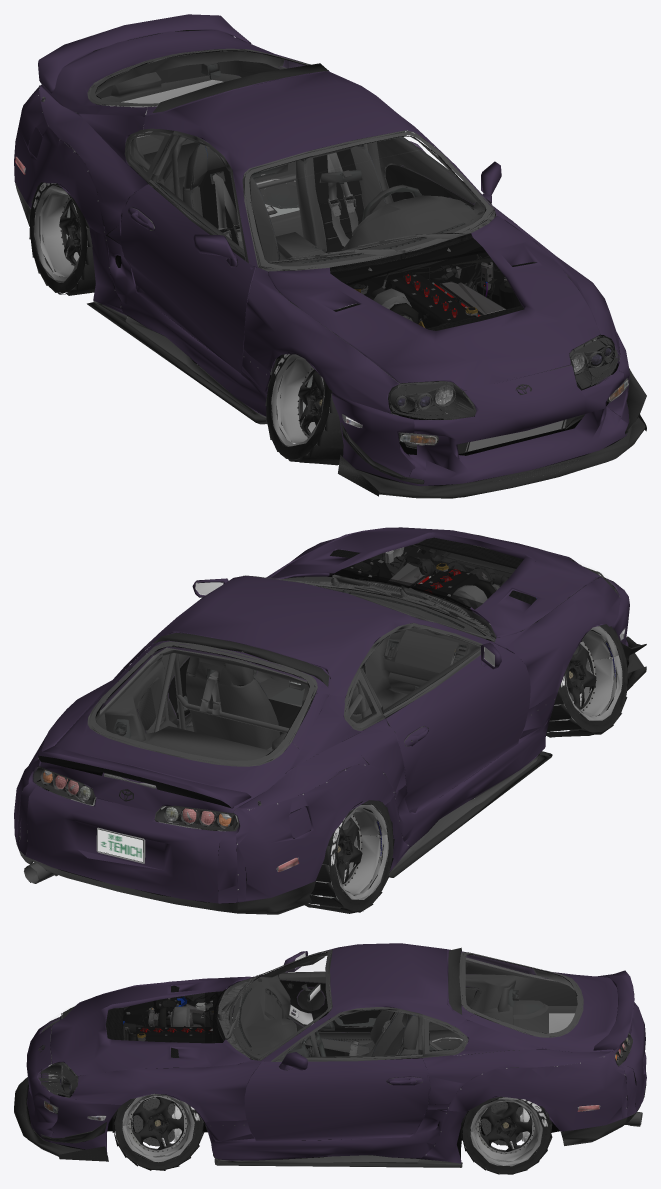
The model's file is toyota-supra-mk4-a80-61d402.glb.
3 views of the same model, one above another, from view 1: azimuth 30°, elevation 25°; view 2: azimuth 150°, elevation 25°; view 3: azimuth 270°, elevation 25° (orthographic). The views are drawn at different scales.
Visible parts, largest first — view 1: body, wheel-front-right, wheel-back-right; view 2: body, wheel-back-right, wheel-front-right; view 3: body, wheel-back-left, wheel-front-left.
Part boxes in pixels (x1=…): body: x1=14, y1=14, x2=646, y2=498; wheel-front-right: x1=265, y1=354, x2=343, y2=465; wheel-back-right: x1=29, y1=182, x2=95, y2=295; body: x1=14, y1=527, x2=646, y2=914; wheel-back-right: x1=305, y1=800, x2=394, y2=913; wheel-front-right: x1=546, y1=624, x2=628, y2=737; body: x1=14, y1=943, x2=646, y2=1167; wheel-back-left: x1=460, y1=1096, x2=552, y2=1174; wheel-front-left: x1=112, y1=1093, x2=204, y2=1170.
Bounding box in the file's own units: 2.02 × 1.24 × 4.6.
34 materials, 15 textured.
